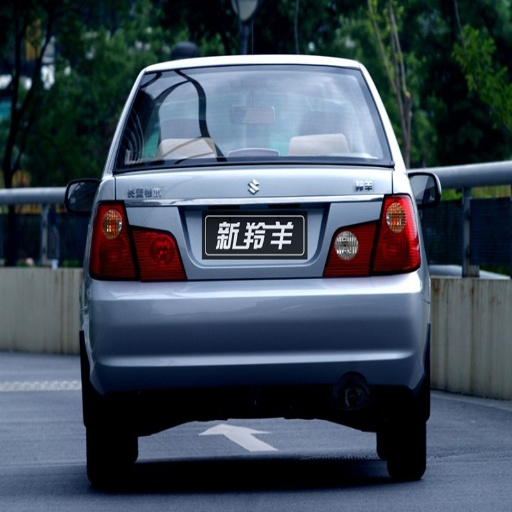back_bumper: (92, 267, 428, 401)
tailgate: (183, 176, 313, 276)
trunk: (115, 172, 392, 282)
